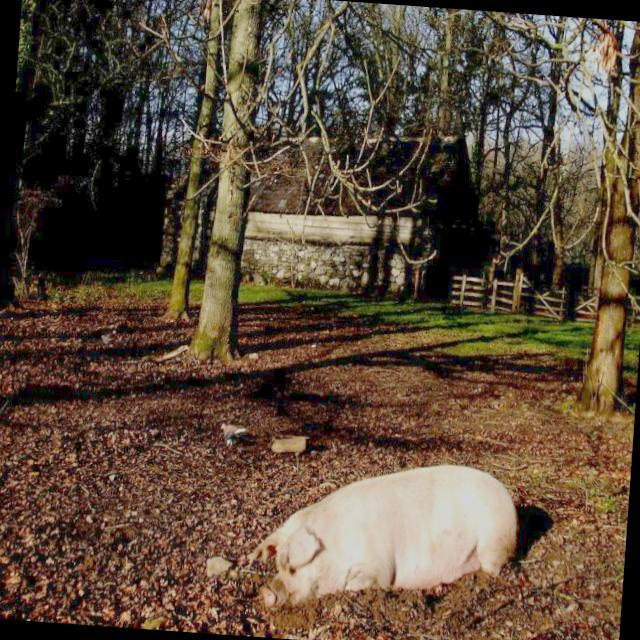pig: (248, 467, 516, 607)
